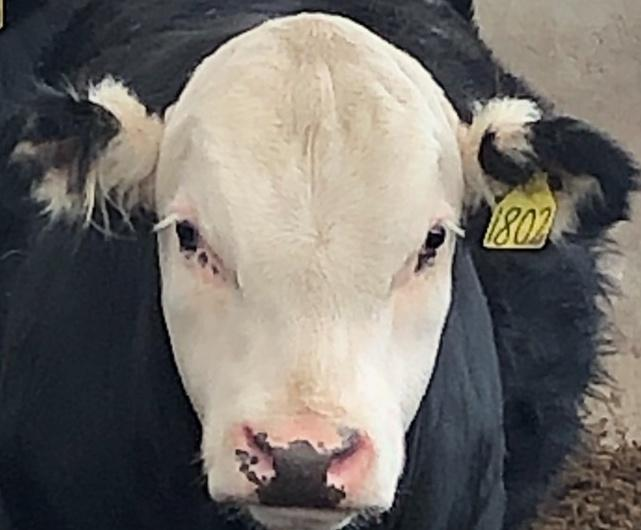muzzles: (191, 397, 402, 530)
